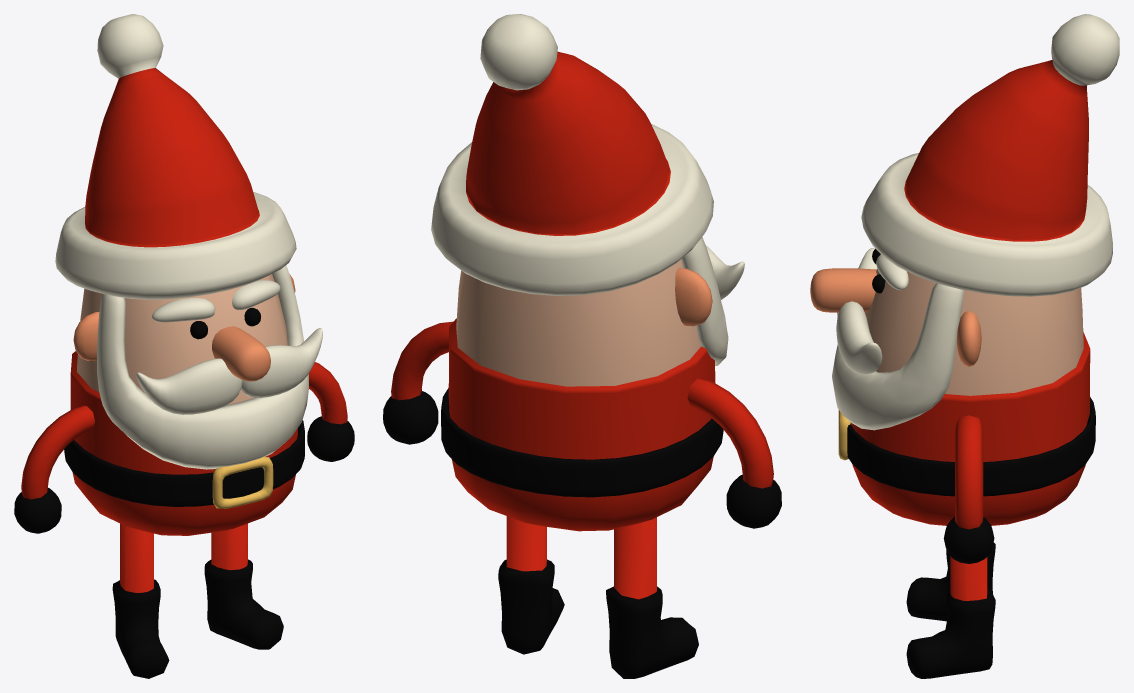
File: santa-claus.glb
The picture shows the model from 3 angles, left to right: view 1: azimuth 30°, elevation 25°; view 2: azimuth 150°, elevation 25°; view 3: azimuth 270°, elevation 25°; orthographic projection. The views are drawn at different scales.
Visible parts, largest first — view 1: Santa claus; view 2: Santa claus; view 3: Santa claus.
Part boxes in pixels (box(x1,y1,x2,y2)): Santa claus: box(14, 14, 354, 678); Santa claus: box(383, 14, 781, 678); Santa claus: box(810, 14, 1119, 678).
Size of the model in its own units: 1.19 by 2.01 by 0.8955.
